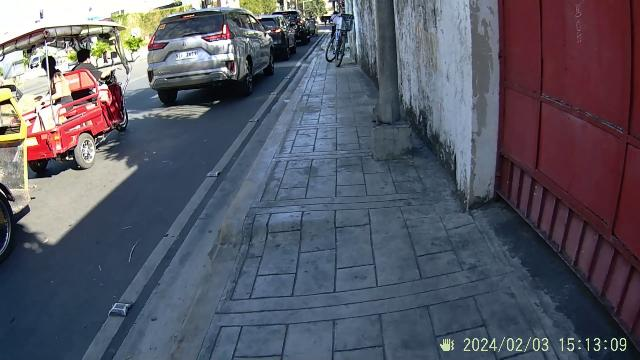motorcycle: (0, 115, 36, 275)
